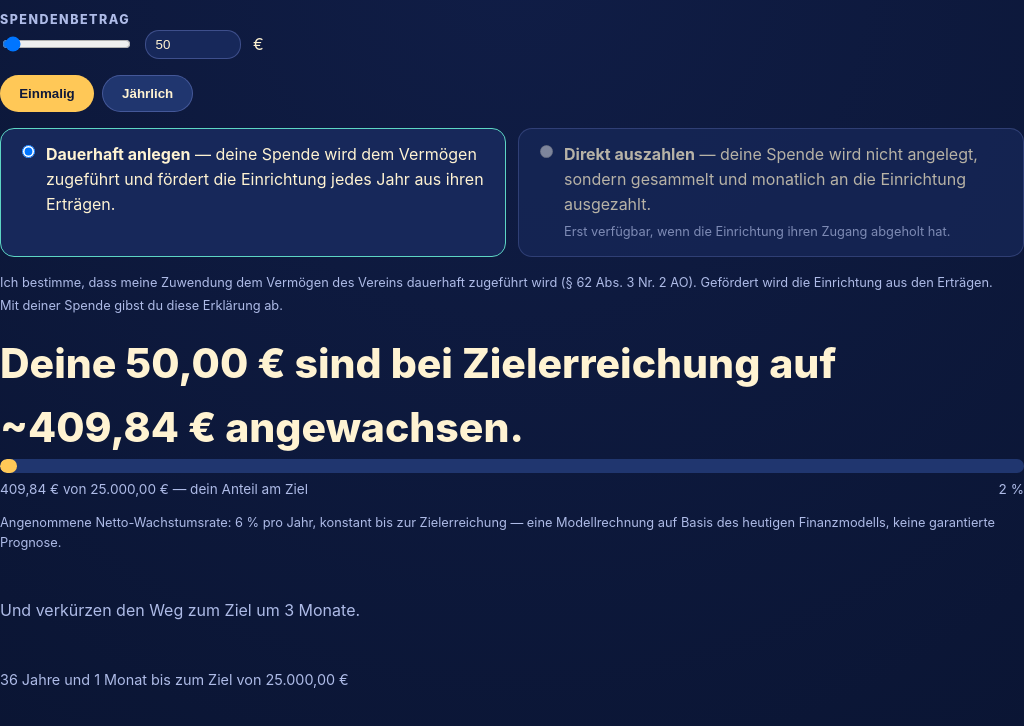
Test: SpendenRechner › Spender-Badge (Task 30: absolute Schwellen, unabhängig von Kinderzahl/Frequenz) › zeigt den Nächstes-Level-Hinweis auch, wenn noch kein Level erreicht ist
Replace the text in the number field named "Spendenbetrag" with "10" at (193, 44), box [145,30,241,59]
(page scrolled)
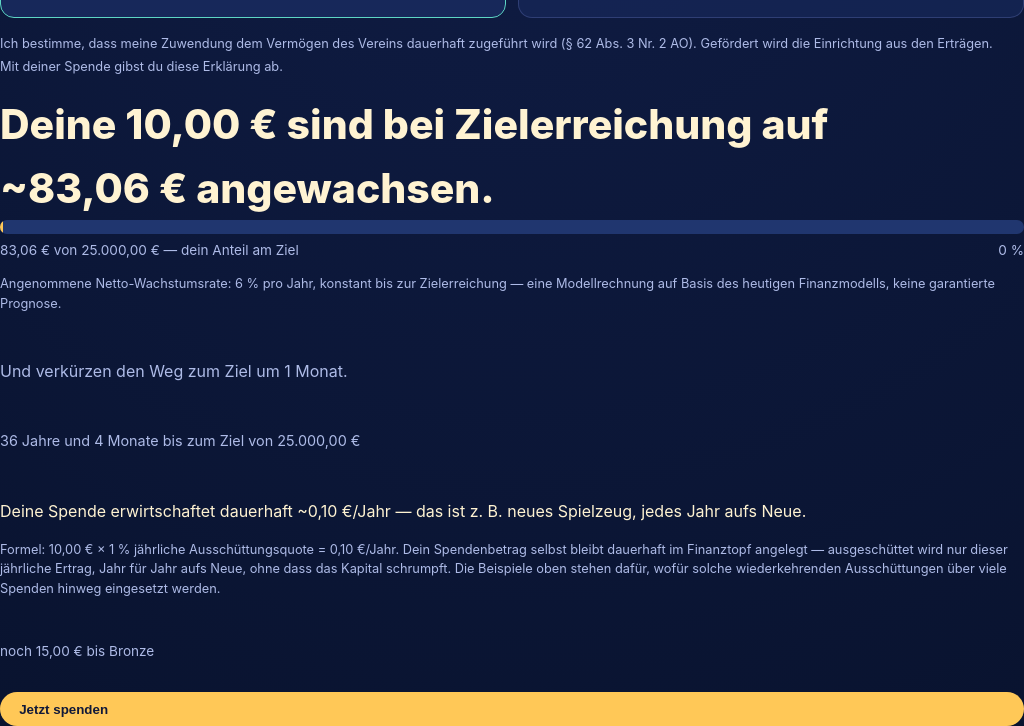
expect the text "noch 15,00 € bis Bronze" is shown: met, box [0,643,154,659]
